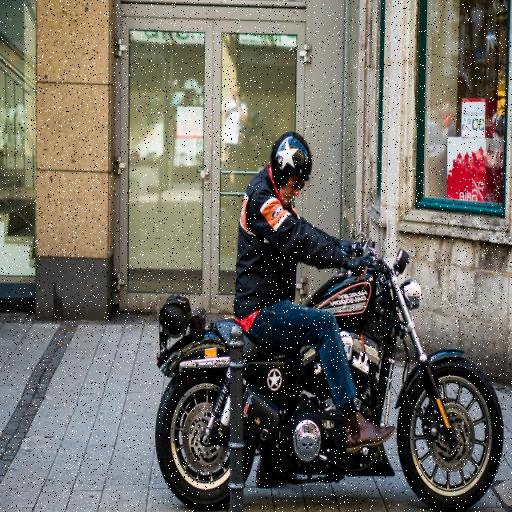Helmet: (265, 114, 318, 211)
Motor: (136, 289, 512, 512)
